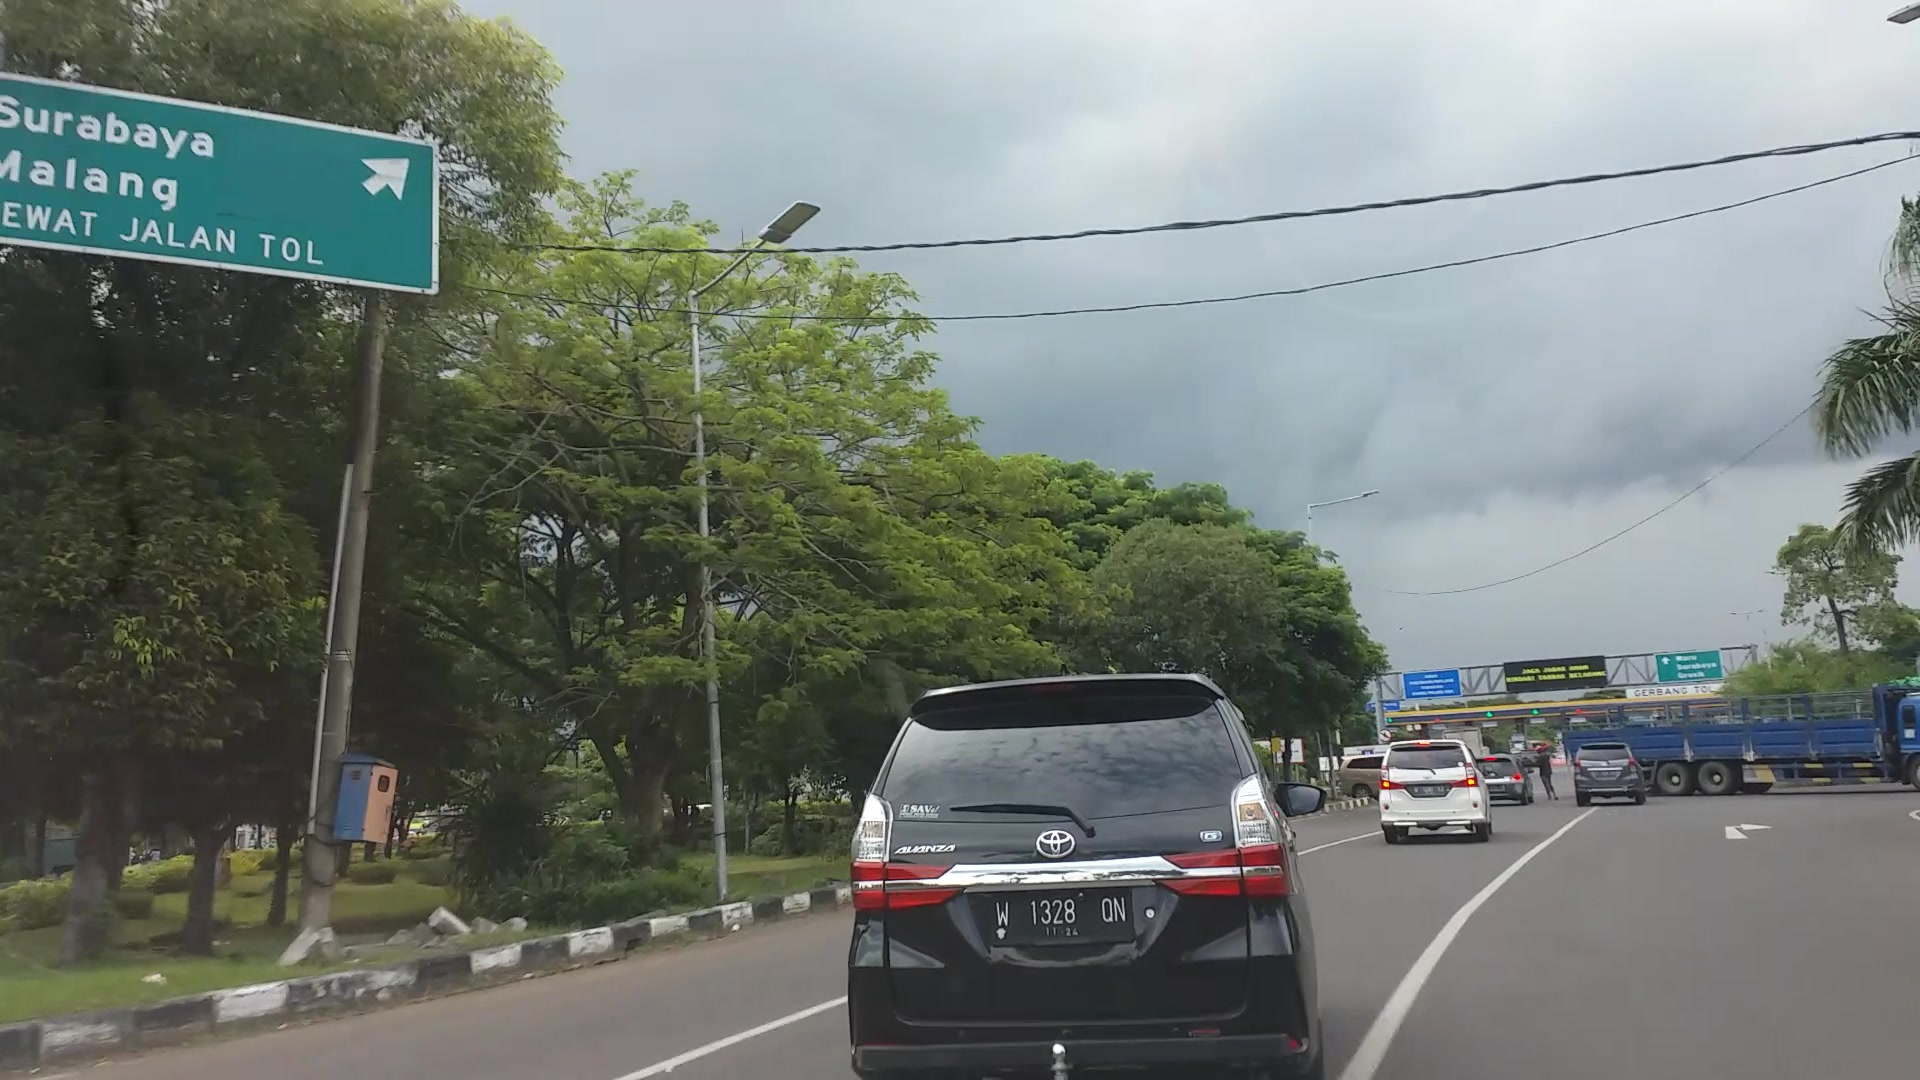plate_positive: (992, 889, 1135, 944)
